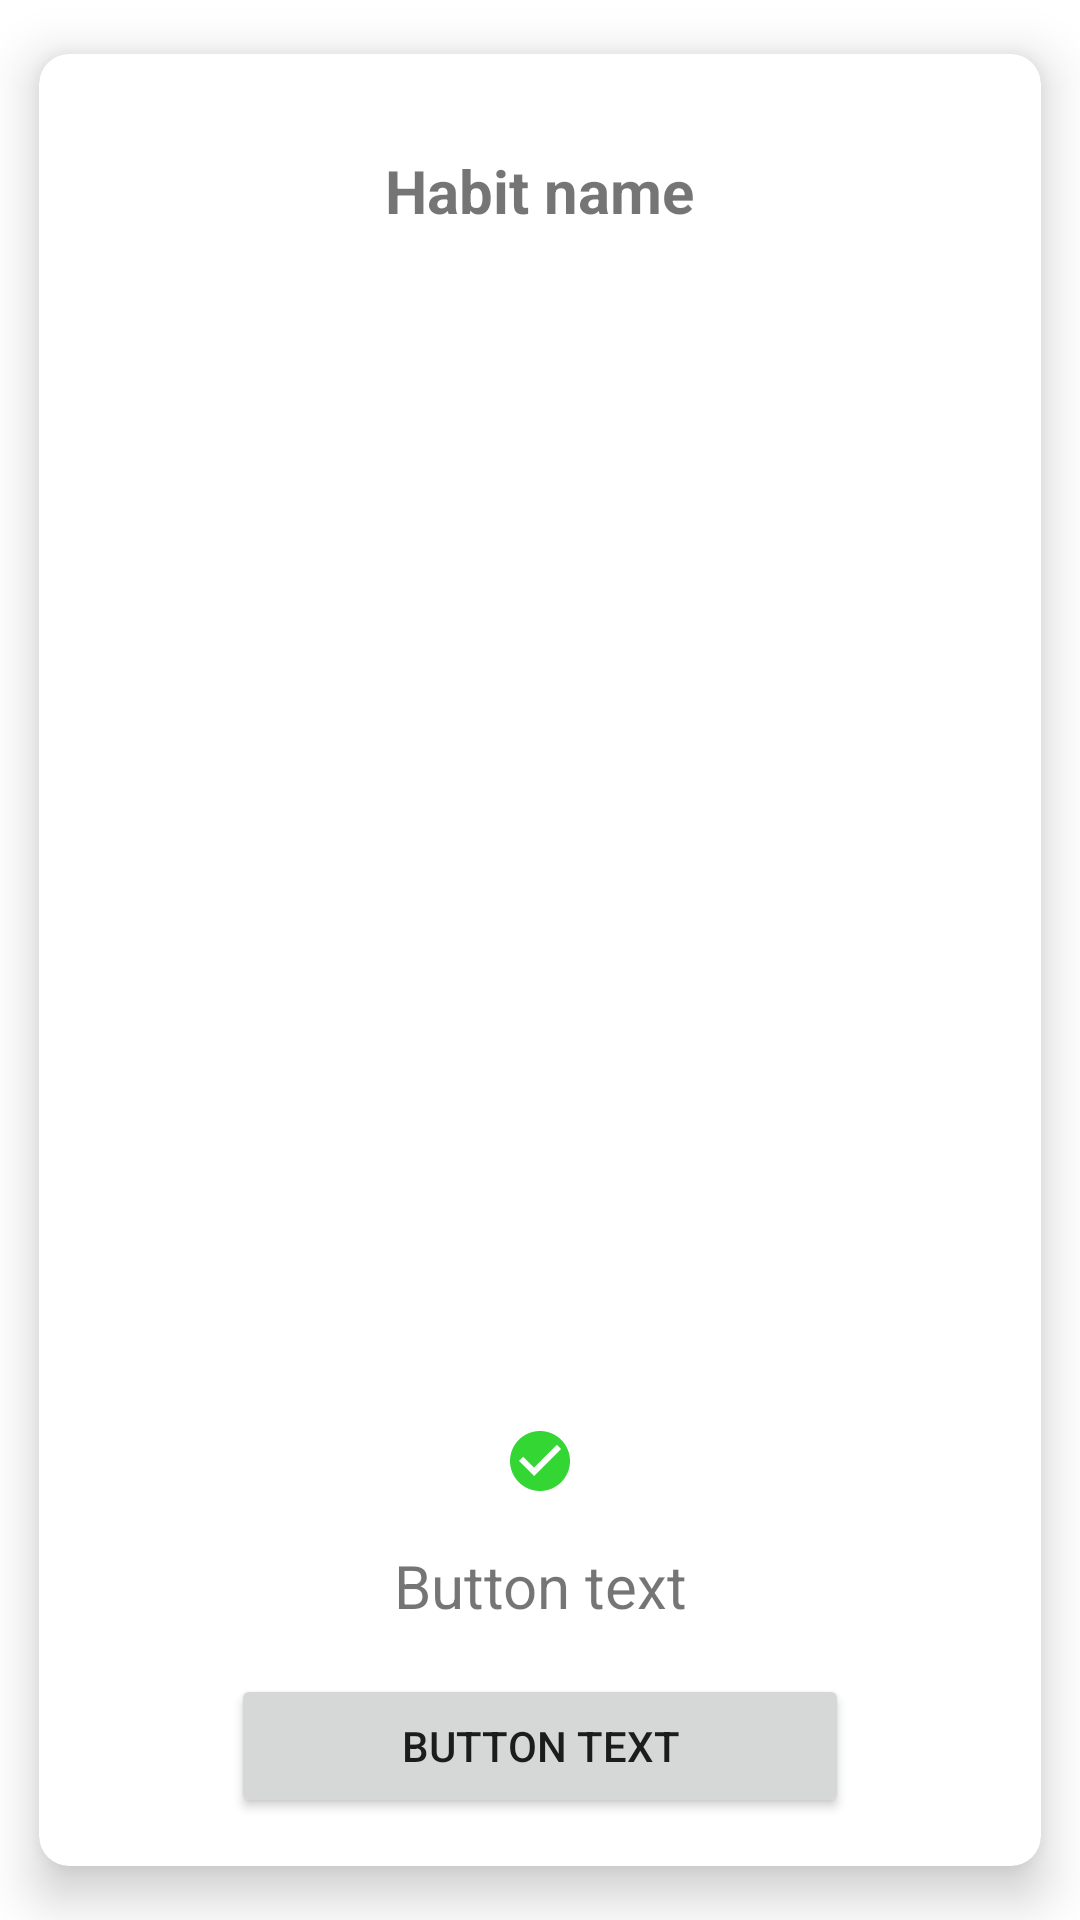

Icons on this 1080px×1920px Android screen, each with the point to tap as [x,y]:
checkmark: [540,1461]
